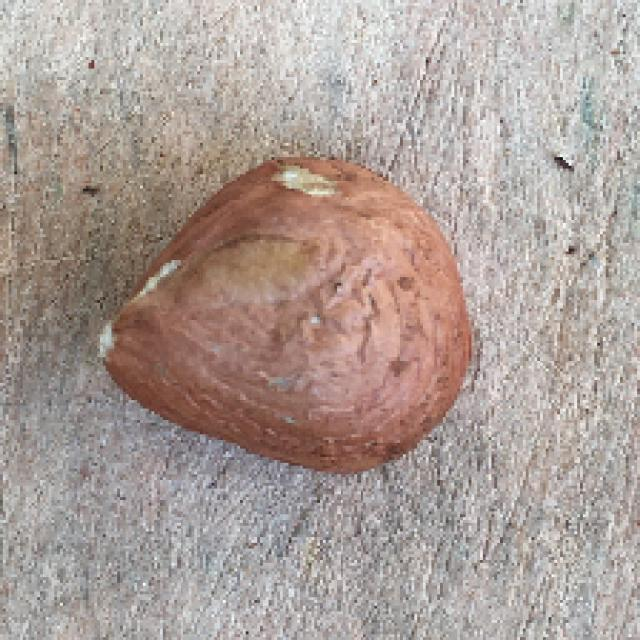hazelnut: (90, 145, 482, 488)
